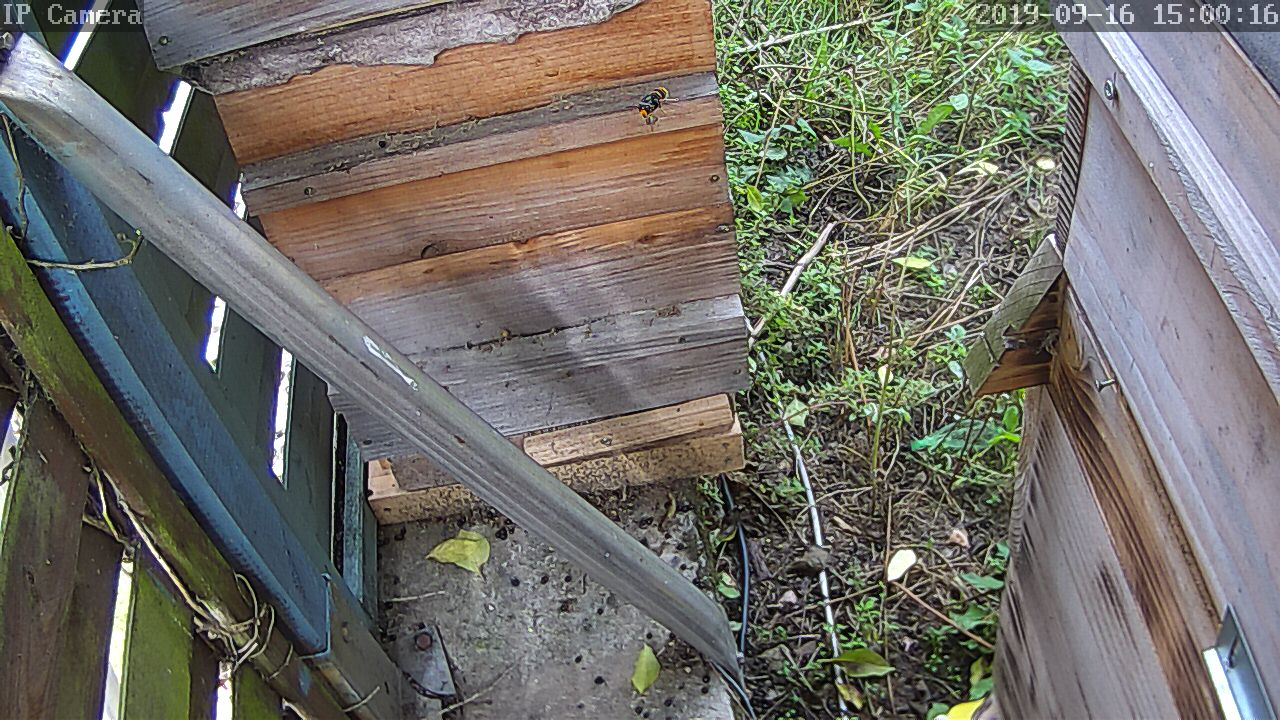hornet: (615, 83, 678, 128)
